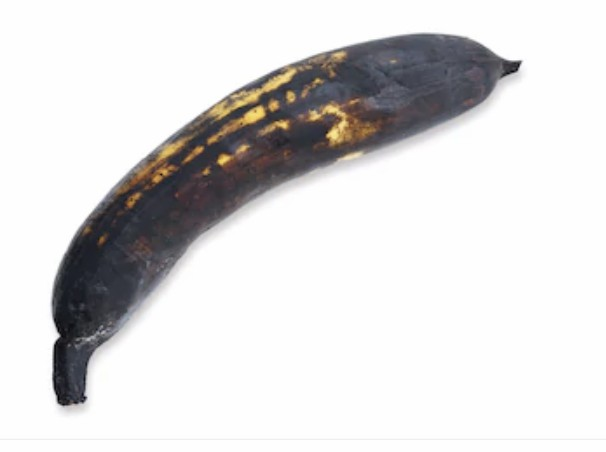rotten_banana: (51, 33, 524, 405)
